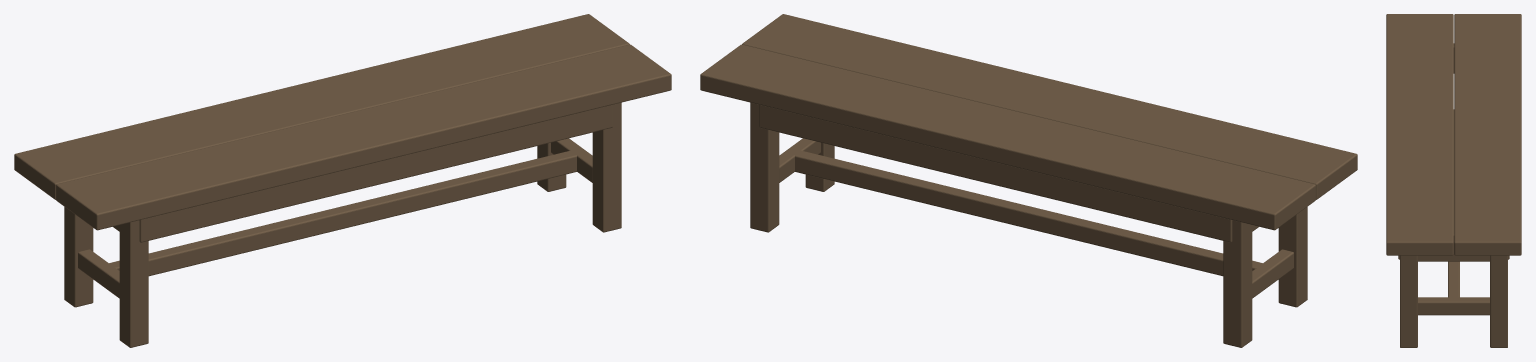
The model's file is SM_DY_BackstageBench.fbx.
3 renders of one model, left to right at view 1: azimuth 30°, elevation 25°; view 2: azimuth 150°, elevation 25°; view 3: azimuth 270°, elevation 25°, orthographic. The views are drawn at different scales.
Visible parts, largest first — view 1: SM_DY_BackstageBench; view 2: SM_DY_BackstageBench; view 3: SM_DY_BackstageBench.
Part boxes in pixels (bbox=[...]): SM_DY_BackstageBench: bbox=[14, 14, 671, 347]; SM_DY_BackstageBench: bbox=[700, 14, 1357, 347]; SM_DY_BackstageBench: bbox=[1386, 14, 1521, 347].
Size of what is drawn, in the model's own units: 180 by 45 by 45.
